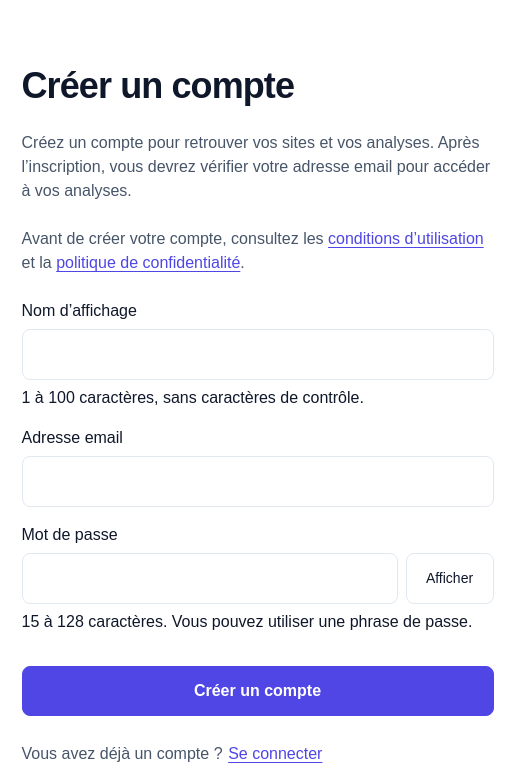
Test: registration through the browser client in fr › blocks registration during an anti-bot outage and permits an explicit retry
Type "Synthetic user" into the field labelled "Nom d’affichage" at (258, 355), box 22,329 -> 494,380
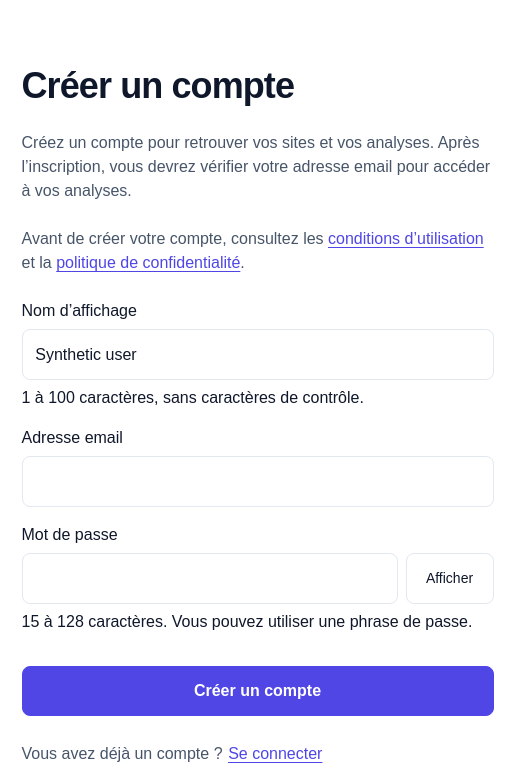
Type "fixture@example.invalid" into the field labelled "Adresse email" at (258, 481), box 22,456 -> 494,507
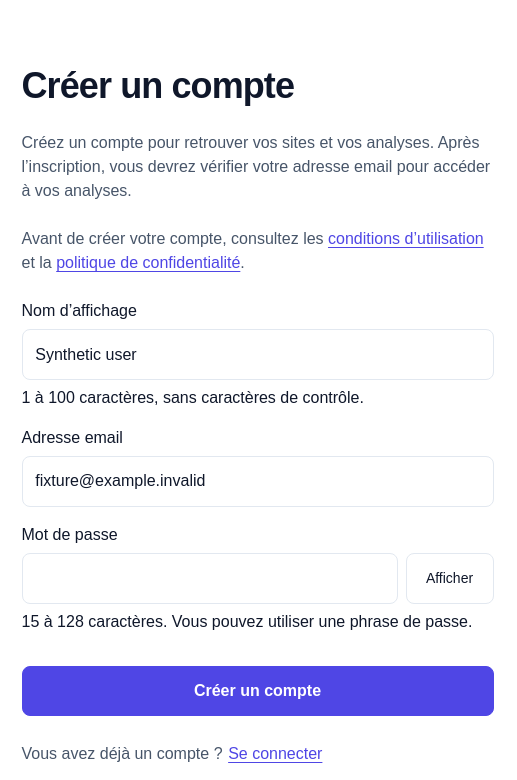
Type "  🔐 a synthetic passphrase  " into the password field labelled "Mot de passe" at (210, 579), box 22,553 -> 398,604
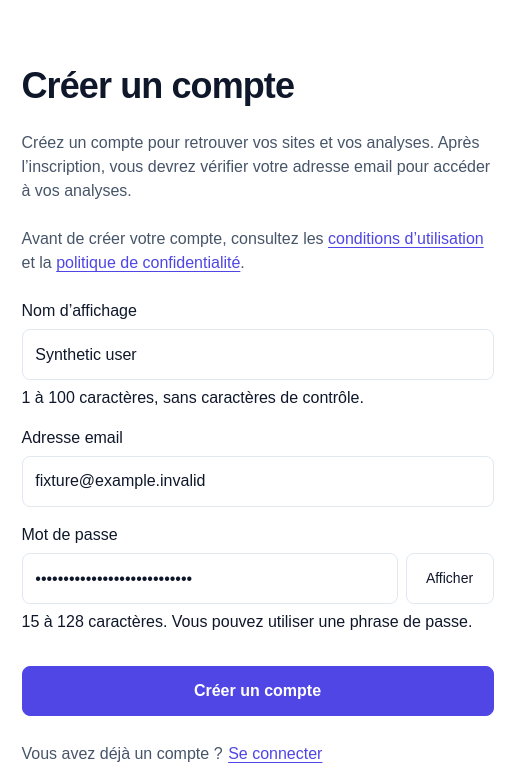
Submit the form named "Créer un compte", box 22,299 -> 494,716
(page scrolled)
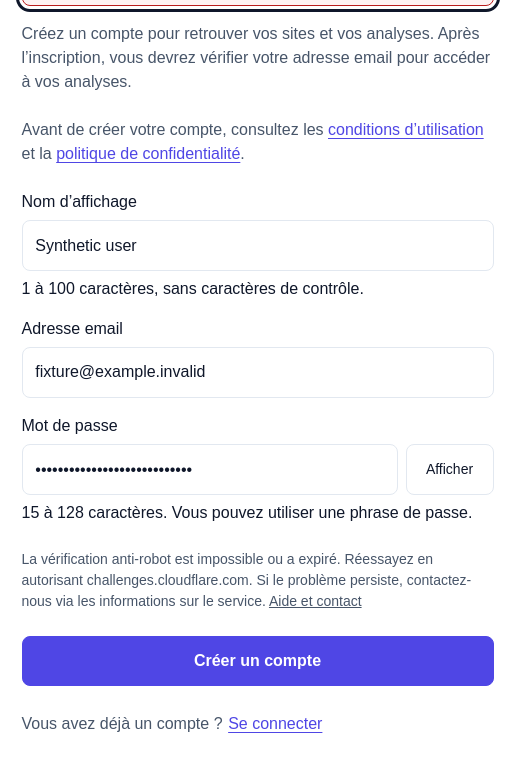
Expected: the button "Créer un compte" is enabled, 22,636 -> 494,686
Submit the form named "Créer un compte", box 22,190 -> 494,686
(page scrolled)
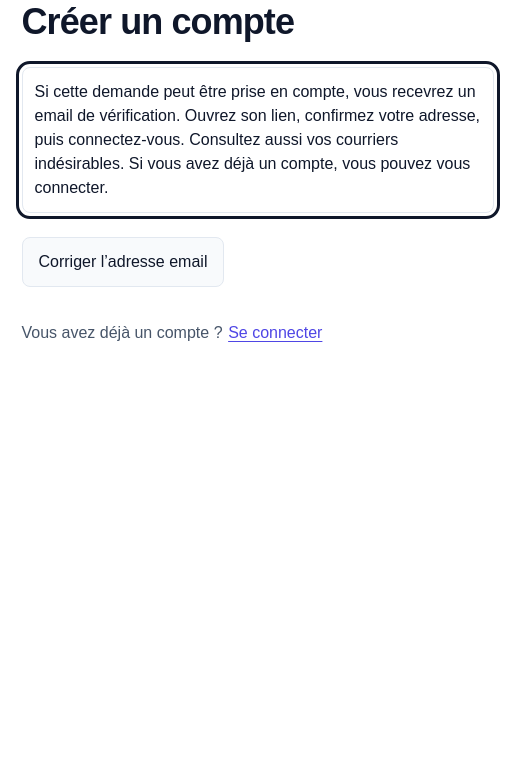
Expected: the text "Si cette demande peut être prise en compte, vous recevrez un email de vérification. Ouvrez son lien, confirmez votre adr" is shown, 34,83 -> 480,196
